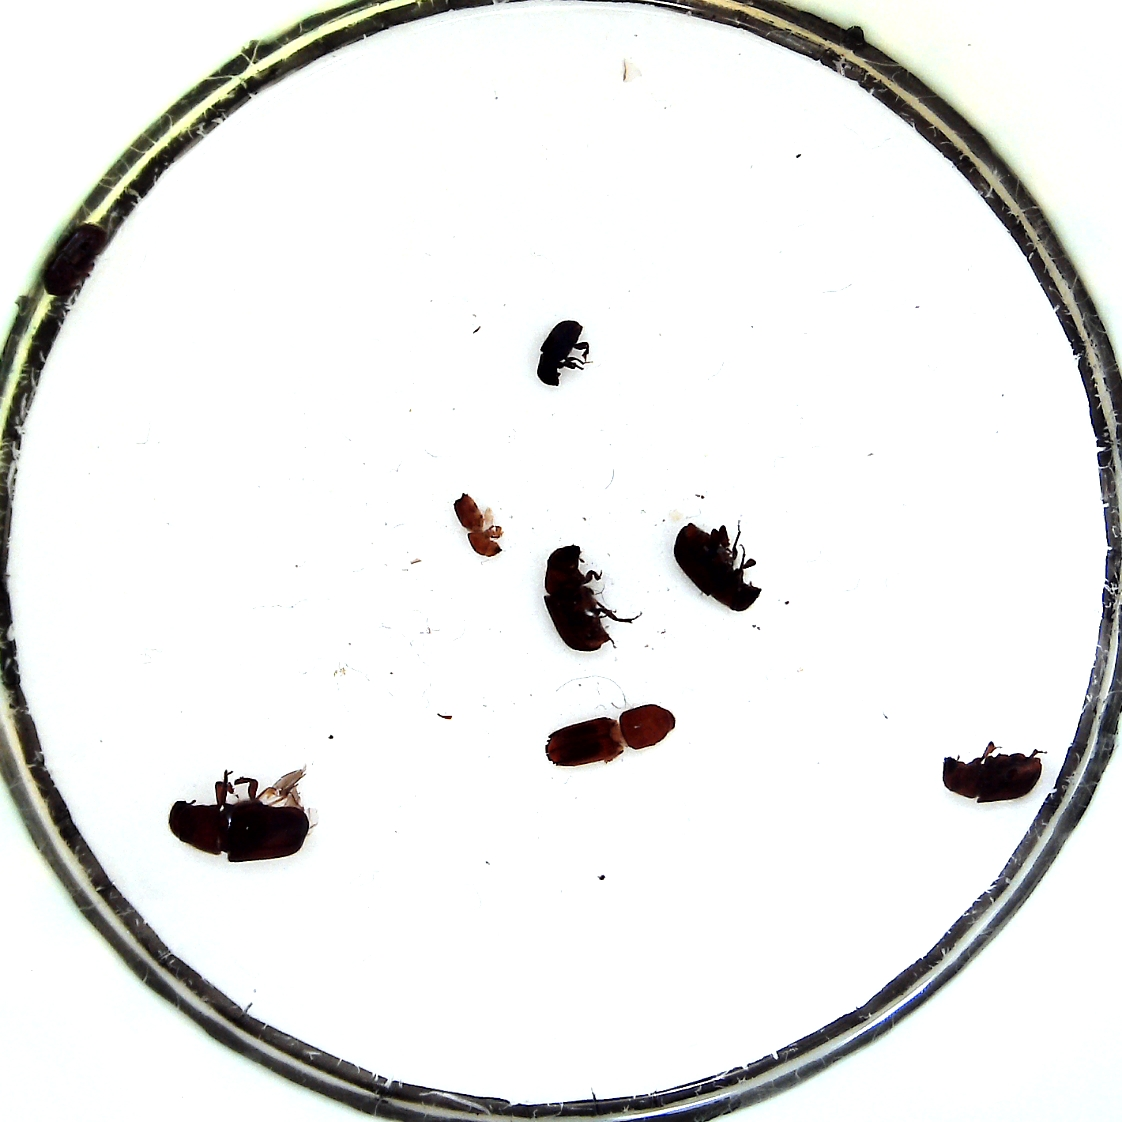Boerner: (543, 701, 678, 769)
Leconte: (167, 769, 314, 862), (670, 519, 762, 614), (544, 543, 619, 654), (941, 746, 1044, 805)
Linnaeus: (42, 221, 106, 296)
acuminatus: (452, 488, 503, 560)
armandi: (534, 317, 593, 387)
